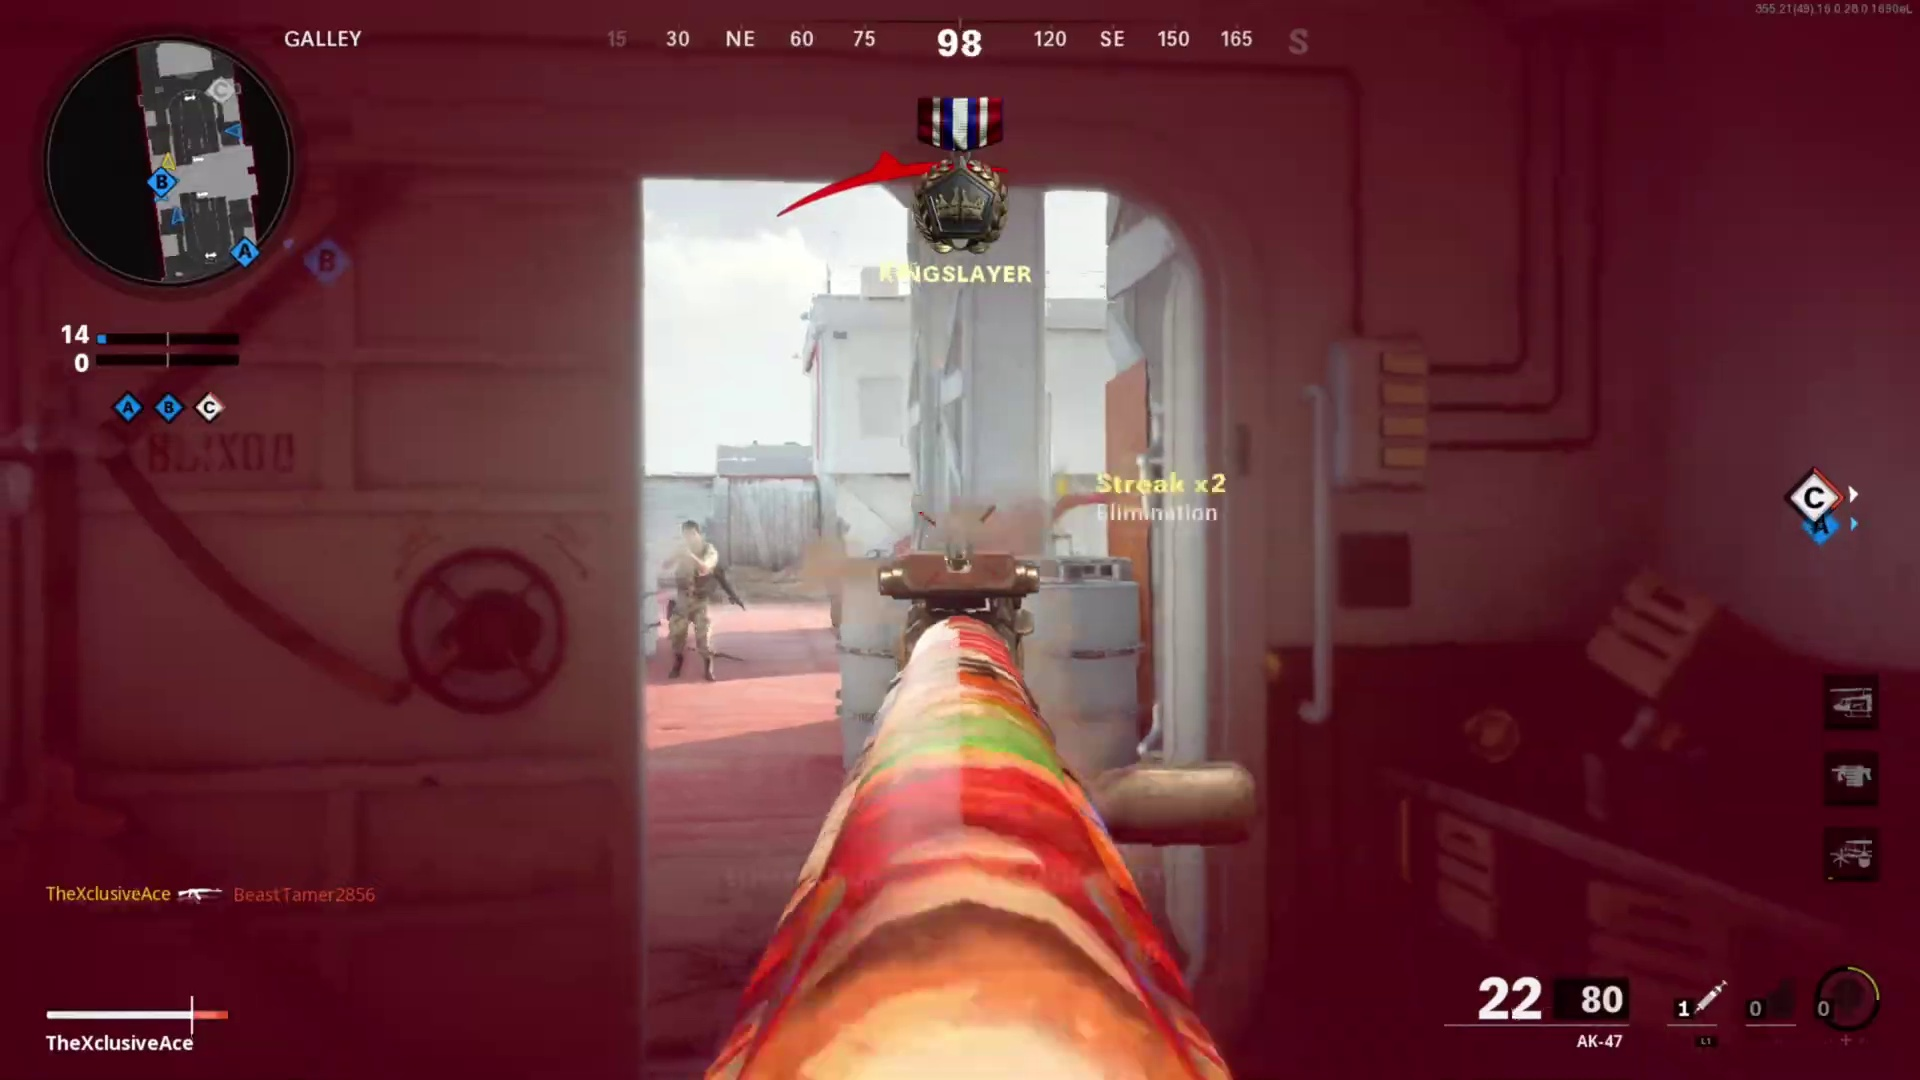head: (675, 516, 706, 558)
person: (660, 520, 732, 678)
